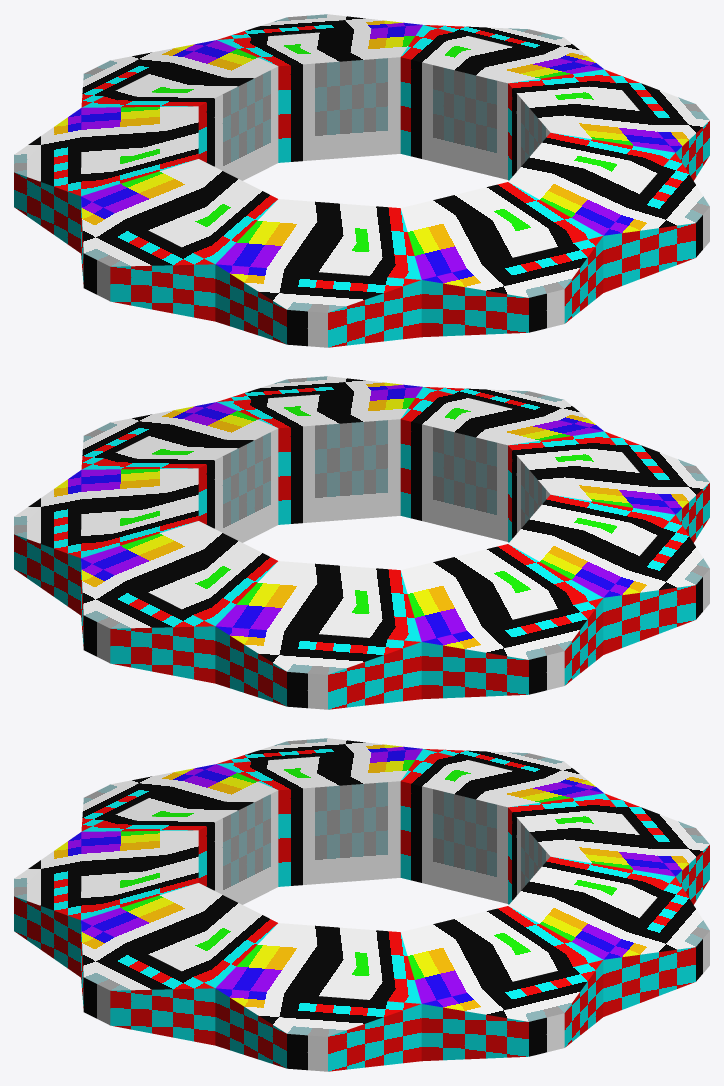
File: servo_gear.obj
The picture shows the model from 3 angles, top to bottom: view 1: azimuth 30°, elevation 25°; view 2: azimuth 150°, elevation 25°; view 3: azimuth 270°, elevation 25°; orthographic projection.
Parts seen in each view (by area): view 1: Dark_Gear_Circle; view 2: Dark_Gear_Circle; view 3: Dark_Gear_Circle.
Boxes of the visible parts, left/top/right/bottom form: Dark_Gear_Circle: left=14, top=14, right=709, bottom=347; Dark_Gear_Circle: left=14, top=376, right=709, bottom=709; Dark_Gear_Circle: left=14, top=738, right=709, bottom=1071.
Size of the model in its own units: 1.33 by 0.2007 by 1.31.
